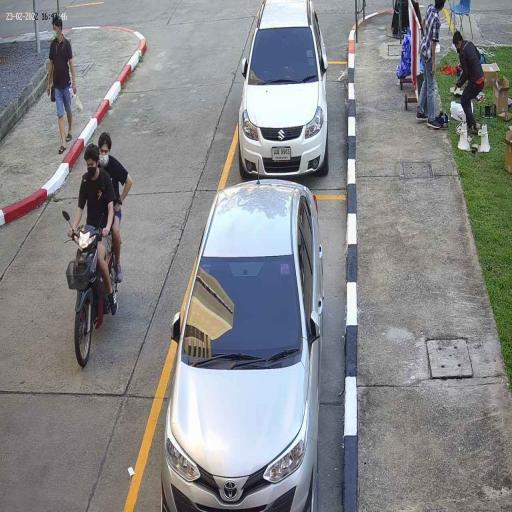car: (159, 175, 324, 512), (237, 0, 328, 181)
motorcycle: (67, 225, 118, 369)
